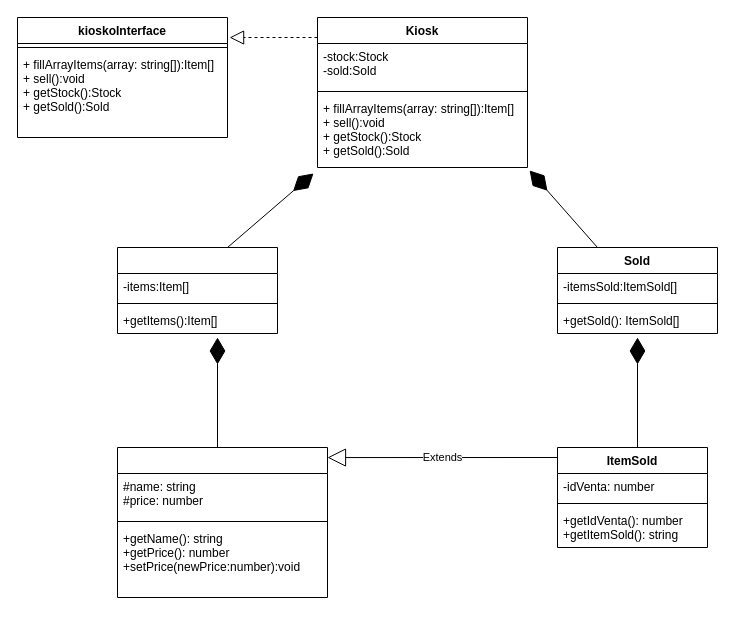
The diagram is 735 pixels wide and 618 high, and some of its shapes have lost their labels. The box of each missing label's shape, as (x1, y1, x2, y2) in pixels:
Item: (116, 446, 328, 598)
Stock: (116, 246, 278, 334)
